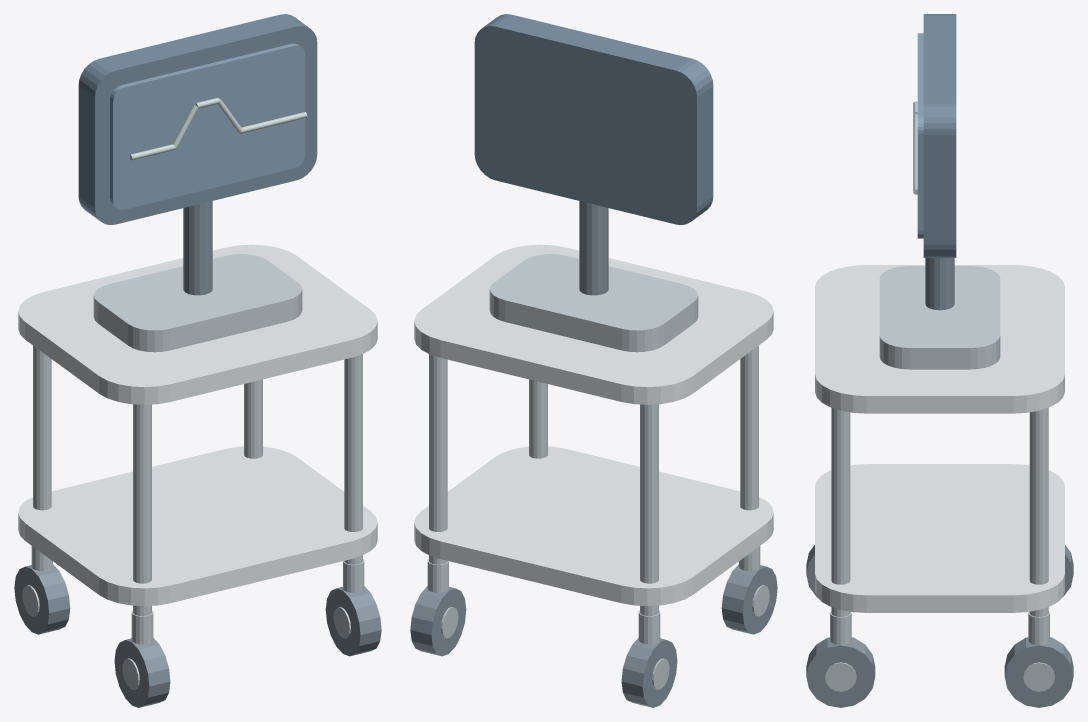
The model's file is hospital_monitor_trolley.glb.
3 views of the same model, side by side, from view 1: azimuth 30°, elevation 25°; view 2: azimuth 150°, elevation 25°; view 3: azimuth 270°, elevation 25° (orthographic).
Visible parts, largest first — view 1: decor_d4dfe3_matte, decor_9aadb8_metal, decor_476a8a_matte, decor_354d66_matte, decor_455665_metal, decor_9bb7b5_matte; view 2: decor_d4dfe3_matte, decor_354d66_matte, decor_9aadb8_metal, decor_455665_metal; view 3: decor_d4dfe3_matte, decor_9aadb8_metal, decor_455665_metal, decor_354d66_matte, decor_476a8a_matte, decor_9bb7b5_matte.
Boxes of the visible parts, left/top/right/bottom form: decor_d4dfe3_matte: left=18, top=244, right=377, bottom=606; decor_9aadb8_metal: left=22, top=254, right=364, bottom=689; decor_476a8a_matte: left=110, top=43, right=305, bottom=209; decor_354d66_matte: left=78, top=14, right=317, bottom=224; decor_455665_metal: left=14, top=201, right=381, bottom=707; decor_9bb7b5_matte: left=130, top=97, right=307, bottom=160; decor_d4dfe3_matte: left=414, top=244, right=773, bottom=606; decor_354d66_matte: left=474, top=14, right=713, bottom=224; decor_9aadb8_metal: left=427, top=254, right=769, bottom=689; decor_455665_metal: left=410, top=201, right=777, bottom=707; decor_d4dfe3_matte: left=815, top=265, right=1064, bottom=612; decor_9aadb8_metal: left=825, top=266, right=1054, bottom=691; decor_455665_metal: left=806, top=258, right=1073, bottom=707; decor_354d66_matte: left=923, top=14, right=956, bottom=257; decor_476a8a_matte: left=917, top=33, right=923, bottom=238; decor_9bb7b5_matte: left=913, top=101, right=917, bottom=194.
Size of the model in its own units: 0.72 by 1.51 by 0.62.
